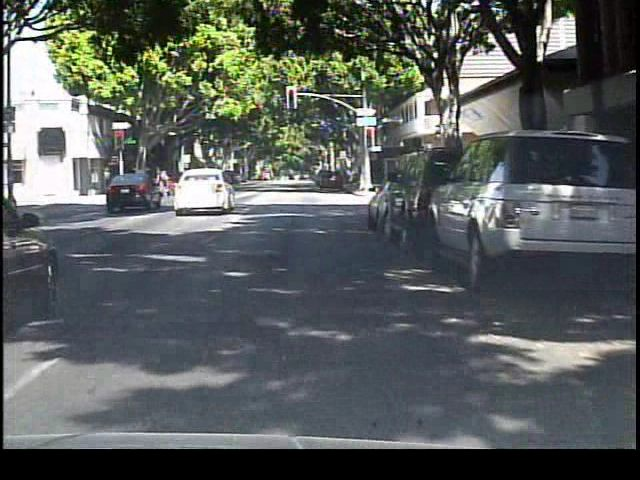person: (158, 163, 175, 202)
